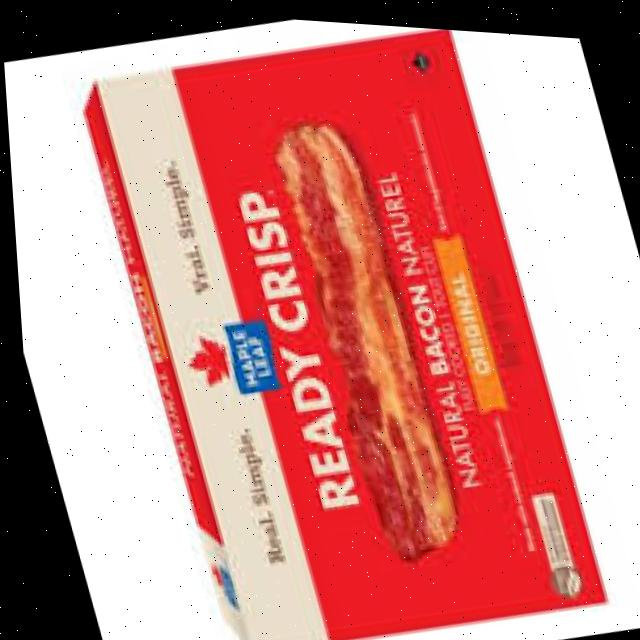Bacon: (272, 119, 447, 553)
